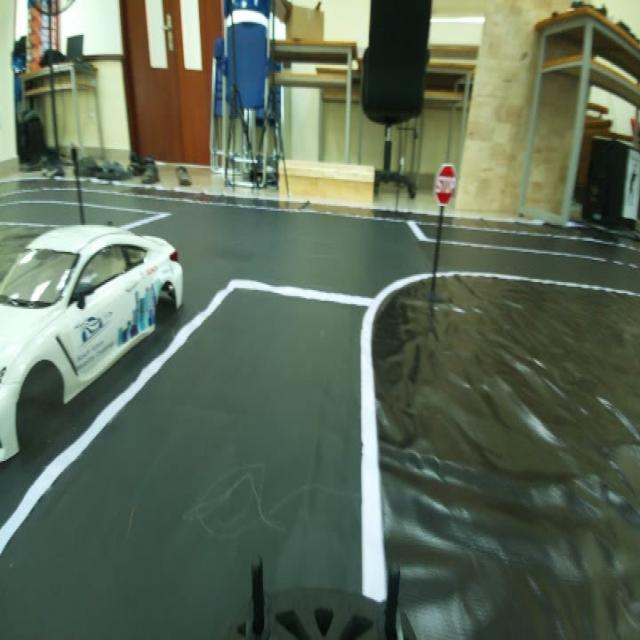car: (0, 162, 185, 438)
stop: (429, 155, 463, 208)
